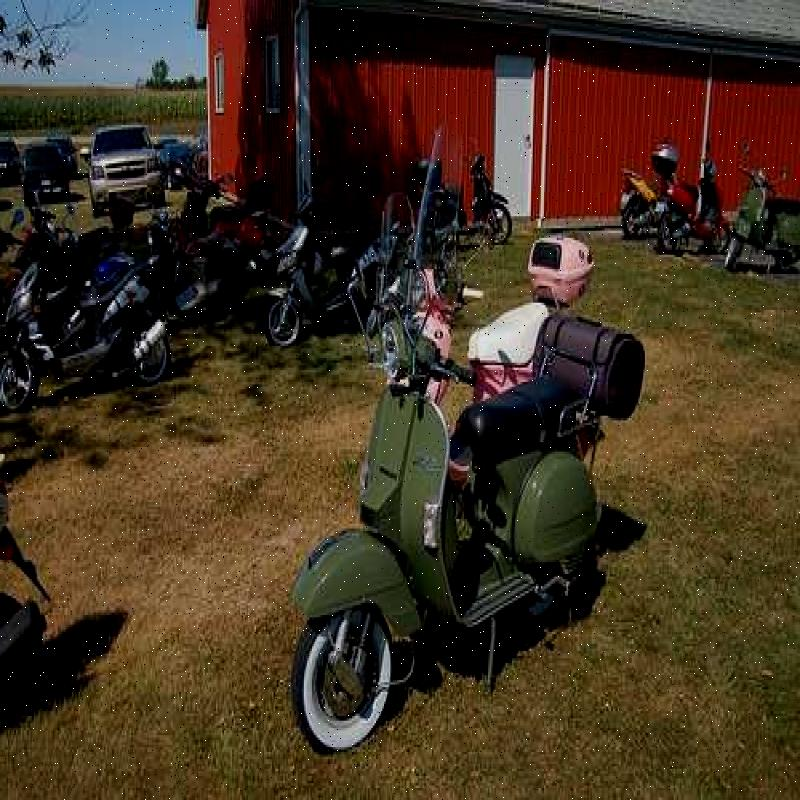bike: (287, 272, 643, 745)
